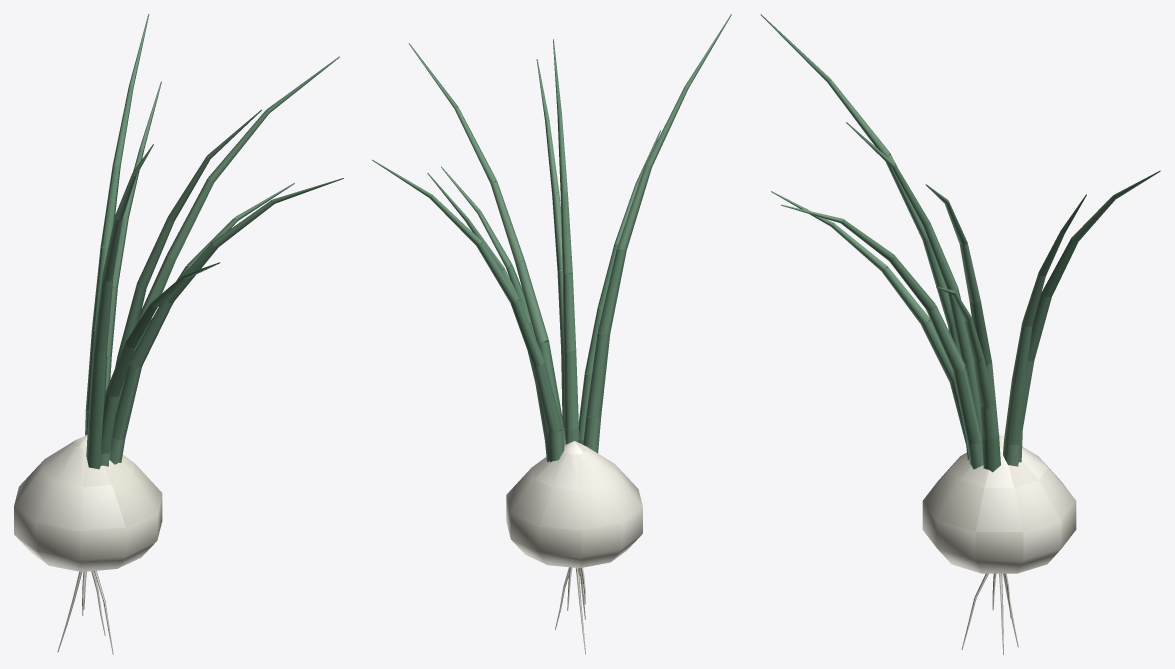
File: oignon_blanc_bulbaison.glb
3 views of the same model, side by side, from view 1: azimuth 30°, elevation 25°; view 2: azimuth 150°, elevation 25°; view 3: azimuth 270°, elevation 25° (orthographic). The views are drawn at different scales.
Visible parts, largest first — view 1: Oignon_Feuilles, Oignon_Bulbe, Oignon_Racines; view 2: Oignon_Feuilles, Oignon_Bulbe, Oignon_Racines; view 3: Oignon_Feuilles, Oignon_Bulbe, Oignon_Racines.
Boxes of the visible parts, bbox=[...] form: Oignon_Feuilles: bbox=[85, 14, 343, 469]; Oignon_Bulbe: bbox=[14, 435, 162, 571]; Oignon_Racines: bbox=[57, 570, 113, 654]; Oignon_Feuilles: bbox=[372, 14, 731, 462]; Oignon_Bulbe: bbox=[506, 441, 642, 568]; Oignon_Racines: bbox=[555, 567, 585, 654]; Oignon_Feuilles: bbox=[760, 14, 1160, 472]; Oignon_Bulbe: bbox=[922, 434, 1076, 573]; Oignon_Racines: bbox=[961, 573, 1018, 654].
Size of the model in its own units: 0.2274 by 0.4753 by 0.2791.
